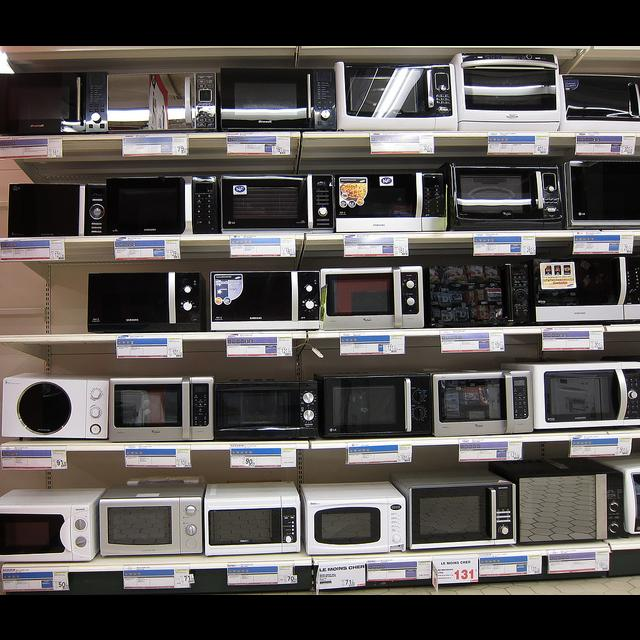Microwave: (1, 46, 639, 578), (318, 372, 434, 441), (99, 483, 208, 556), (300, 480, 407, 554), (534, 250, 640, 323), (213, 371, 321, 442), (317, 263, 431, 330), (86, 273, 209, 333), (204, 481, 301, 556), (220, 174, 336, 236), (209, 270, 321, 333), (109, 376, 215, 441), (106, 176, 221, 235)
